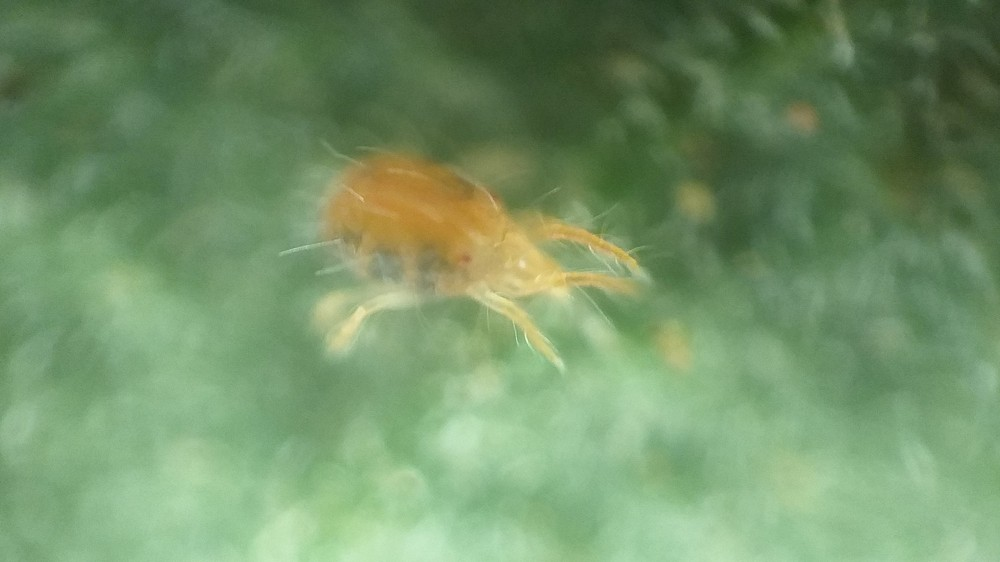Aracnido Rojo: (273, 125, 666, 397)
